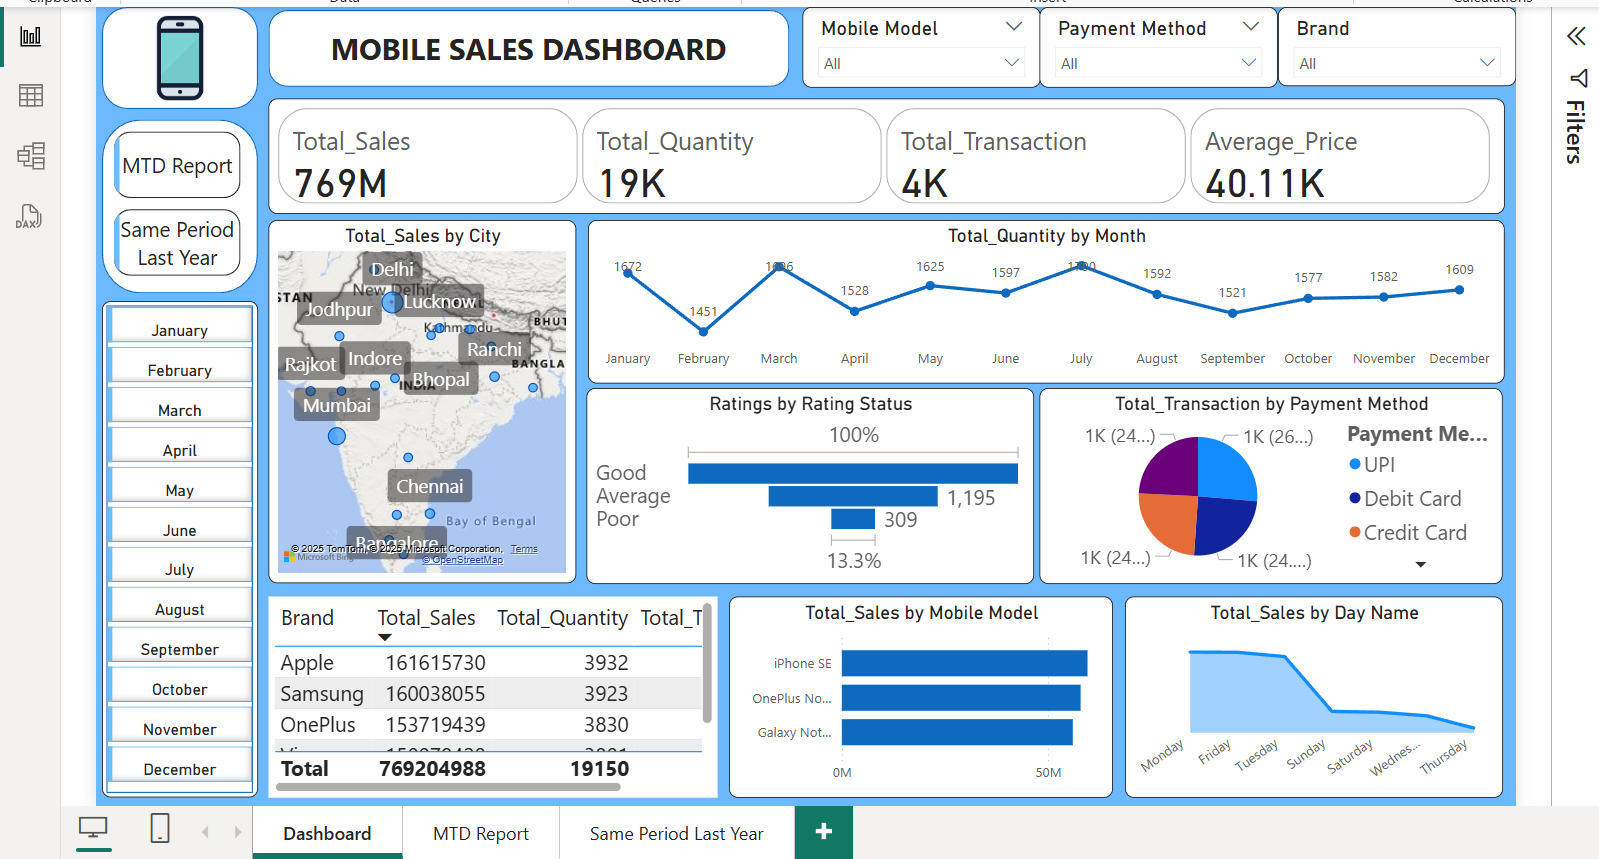

The dashboard page shown, as its layout file describes it:
{"tool":"powerbi","page":{"name":"Dashboard","canvas":[1280,720],"ordinal":0},"visuals":[{"type":"shape","box":[5.4,0,140.6,91.9],"z":0},{"type":"shape","box":[5.4,264.9,140.6,447.4],"z":1000},{"type":"advancedSlicerVisual","fields":{"Values":["Custom_Calendar.Date.Variation.Date Hierarchy.Month"]},"box":[5.4,264.9,140.6,447.4],"z":2000},{"type":"shape","box":[5.4,101.4,140.6,156.8],"z":3000},{"type":"cardVisual","fields":{"Data":["Mobile_Sales.Total_Sales","Mobile_Sales.Total_Quantity","Mobile_Sales.Total_Transaction","Mobile_Sales.Average_Price"]},"box":[155.4,82.5,1113.8,104.1],"z":4000},{"type":"slicer","fields":{"Values":["Mobile_Sales.Mobile Model"]},"box":[636.2,0,214.5,72.5],"z":5000},{"type":"slicer","fields":{"Values":["Mobile_Sales.Payment Method"]},"box":[850.7,0,214.5,72.5],"z":6000},{"type":"slicer","fields":{"Values":["Mobile_Sales.Brand"]},"box":[1065.2,0,214.5,71],"z":7000},{"type":"map","fields":{"Category":["Mobile_Sales.City"],"Size":["Mobile_Sales.Total_Sales"]},"box":[155.9,192.2,277.2,327.6],"z":8000},{"type":"lineChart","fields":{"Category":["Custom_Calendar.Date.Variation.Date Hierarchy.Month"],"Y":["Mobile_Sales.Total_Quantity"]},"box":[443.4,191.9,825.9,147.3],"z":9000},{"type":"funnel","title":"Ratings by Rating Status","fields":{"Y":["CountNonNull(Mobile_Sales.Customer Ratings)"],"Category":["Mobile_Sales.Rating Status"]},"box":[442.6,343.4,403.2,176.4],"z":10000},{"type":"pieChart","fields":{"Category":["Mobile_Sales.Payment Method"],"Y":["Mobile_Sales.Total_Transaction"]},"box":[850.5,343.4,417.4,176.4],"z":11000},{"type":"clusteredBarChart","fields":{"Y":["Mobile_Sales.Total_Sales"],"Category":["Mobile_Sales.Mobile Model"]},"box":[570.4,531.2,346,181.1],"z":12000},{"type":"areaChart","fields":{"Y":["Mobile_Sales.Total_Sales"],"Category":["Custom_Calendar.Day Name"]},"box":[927.3,531.2,340.6,181.1],"z":13000},{"type":"tableEx","fields":{"Values":["Mobile_Sales.Brand","Mobile_Sales.Total_Sales","Mobile_Sales.Total_Quantity","Mobile_Sales.Total_Transaction"]},"box":[155.9,530.8,404.8,181.1],"z":14000},{"type":"image","box":[32.4,2.7,86.5,86.5],"z":15000},{"type":"pageNavigator","box":[15.8,111.8,115,130.7],"z":16000},{"type":"shape","box":[155.9,3.2,469.4,69.3],"z":17000},{"type":"textbox","box":[182.7,14.2,414.2,53.6],"z":18000}]}

Visuals, with their boxes on the page's 1280x720 design canvas (x1, y1, x2, y2). These are canvas units, not pixel positions in the 1599x859 screenshot, which may show the page scaled, cropped or inside an application window:
shape: Rect(5, 0, 146, 92)
shape: Rect(5, 265, 146, 712)
advancedSlicerVisual - Custom_Calendar.Date.Variation.Date Hierarchy.Month: Rect(5, 265, 146, 712)
shape: Rect(5, 101, 146, 258)
cardVisual - Mobile_Sales.Total_Sales x Mobile_Sales.Total_Quantity: Rect(155, 82, 1269, 187)
slicer - Mobile_Sales.Mobile Model: Rect(636, 0, 851, 72)
slicer - Mobile_Sales.Payment Method: Rect(851, 0, 1065, 72)
slicer - Mobile_Sales.Brand: Rect(1065, 0, 1280, 71)
map - Mobile_Sales.City x Mobile_Sales.Total_Sales: Rect(156, 192, 433, 520)
lineChart - Custom_Calendar.Date.Variation.Date Hierarchy.Month x Mobile_Sales.Total_Quantity: Rect(443, 192, 1269, 339)
"Ratings by Rating Status" funnel: Rect(443, 343, 846, 520)
pieChart - Mobile_Sales.Payment Method x Mobile_Sales.Total_Transaction: Rect(850, 343, 1268, 520)
clusteredBarChart - Mobile_Sales.Total_Sales x Mobile_Sales.Mobile Model: Rect(570, 531, 916, 712)
areaChart - Mobile_Sales.Total_Sales x Custom_Calendar.Day Name: Rect(927, 531, 1268, 712)
tableEx - Mobile_Sales.Brand x Mobile_Sales.Total_Sales: Rect(156, 531, 561, 712)
image: Rect(32, 3, 119, 89)
pageNavigator: Rect(16, 112, 131, 242)
shape: Rect(156, 3, 625, 72)
textbox: Rect(183, 14, 597, 68)
